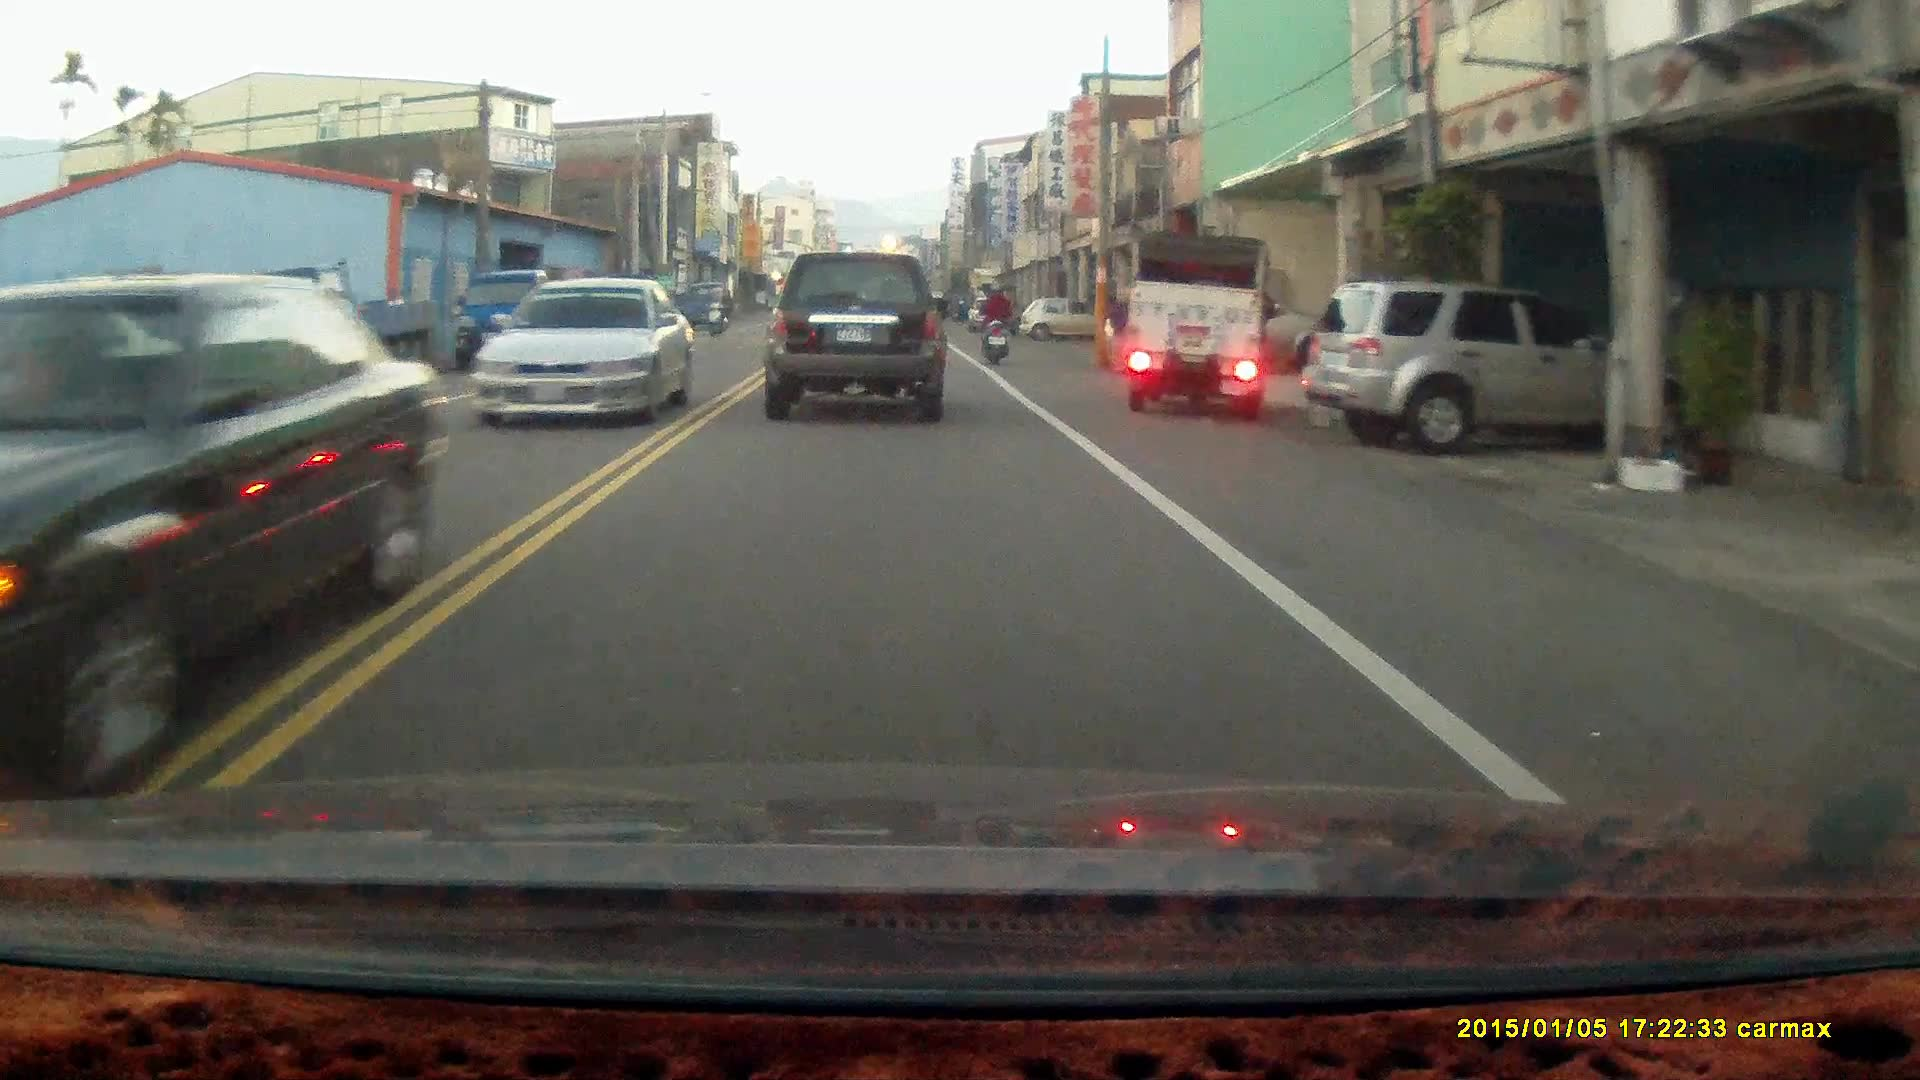pedestrian: (1105, 287, 1136, 376)
rider: (977, 282, 1014, 368), (704, 281, 732, 338)
vehicle: (1, 271, 452, 787), (1311, 279, 1621, 453), (476, 276, 690, 429), (766, 253, 949, 426), (1127, 231, 1273, 415), (452, 271, 592, 389), (1022, 295, 1095, 348)
